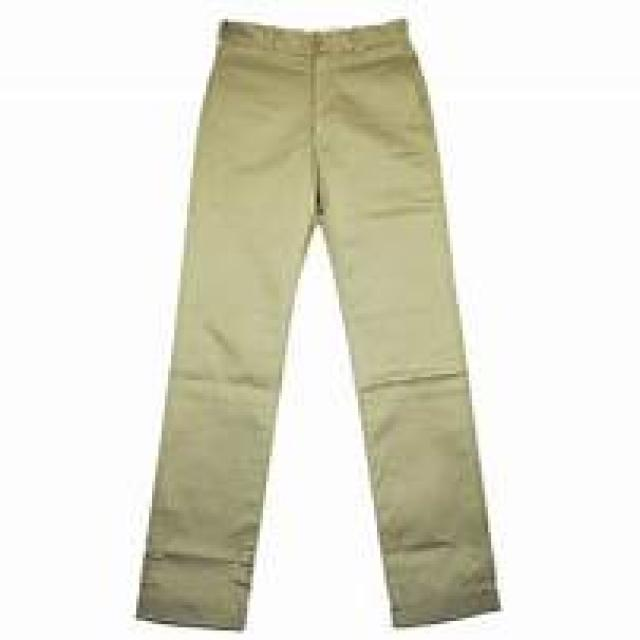long-pants: (131, 10, 509, 634)
